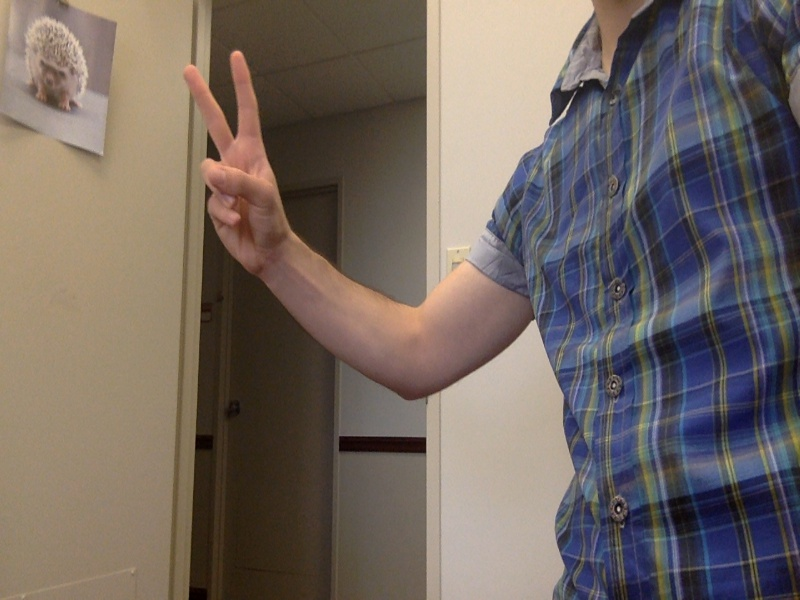2-hand: (182, 51, 283, 279)
